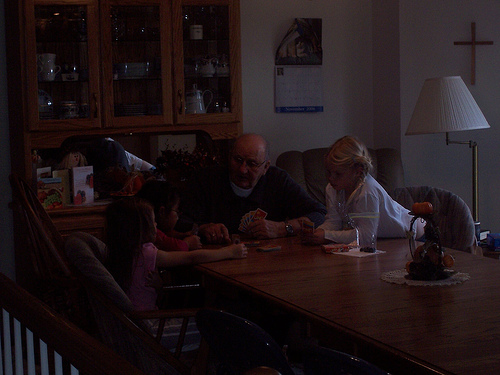without_mask: (228, 139, 274, 190), (322, 150, 364, 192)
